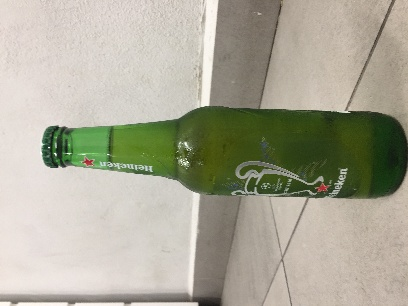HB: (28, 78, 294, 138)
